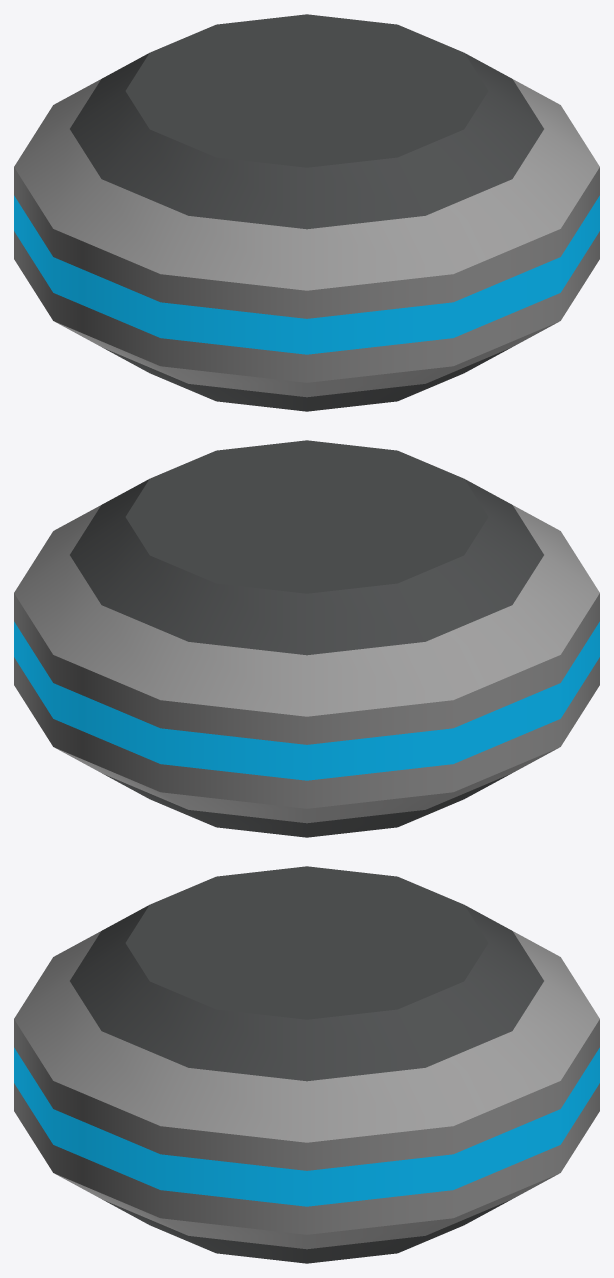
The model's file is Gauss_ammo.glb.
3 renders of one model, top to bottom at view 1: azimuth 30°, elevation 25°; view 2: azimuth 150°, elevation 25°; view 3: azimuth 270°, elevation 25°, orthographic.
Parts seen in each view (by area): view 1: Gauss_ammo; view 2: Gauss_ammo; view 3: Gauss_ammo.
Boxes of the visible parts, bbox=[...] form: Gauss_ammo: bbox=[14, 14, 599, 411]; Gauss_ammo: bbox=[14, 440, 599, 837]; Gauss_ammo: bbox=[14, 866, 599, 1263].
Size of the model in its own units: 0.2864 by 0.1315 by 0.2864.
Materials: 2 (2 with a texture image).
